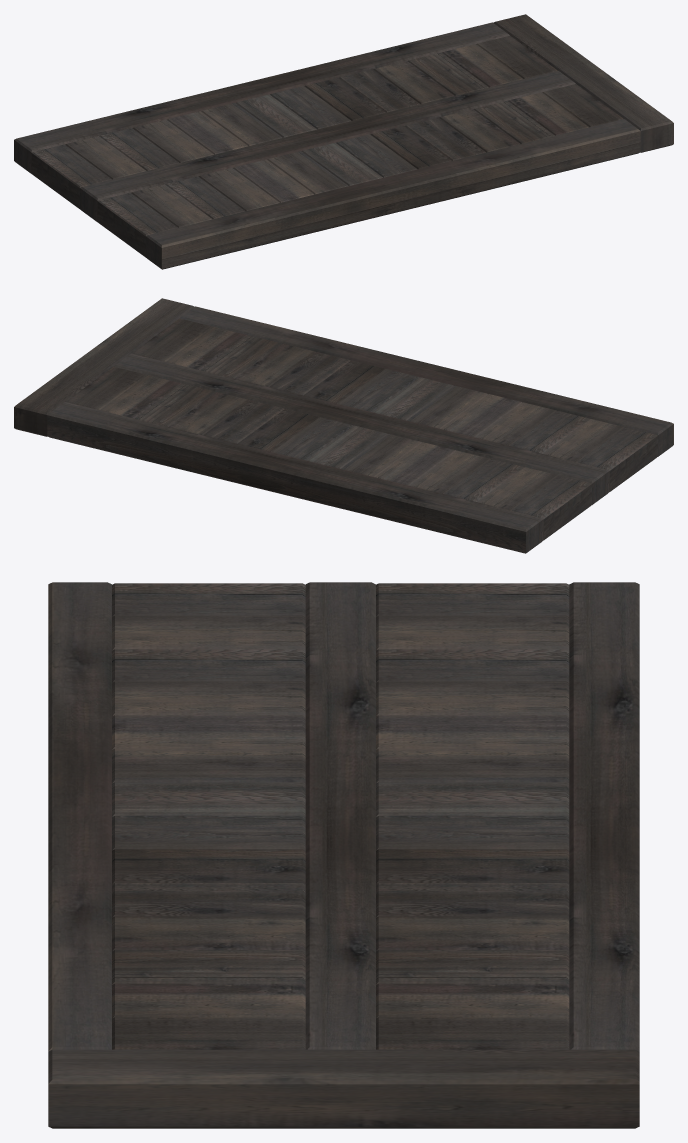
Rendered from SM_Unhyun_Noan_W_Haenggak_Maru_A001.fbx.
3 views of the same model, one above another, from view 1: azimuth 30°, elevation 25°; view 2: azimuth 150°, elevation 25°; view 3: azimuth 270°, elevation 25° (orthographic). The views are drawn at different scales.
Parts seen in each view (by area): view 1: SM_Unhyun_Noan_W_Haenggak_Maru_A001; view 2: SM_Unhyun_Noan_W_Haenggak_Maru_A001; view 3: SM_Unhyun_Noan_W_Haenggak_Maru_A001.
Part boxes in pixels (x1=…): SM_Unhyun_Noan_W_Haenggak_Maru_A001: x1=14, y1=14, x2=673, y2=269; SM_Unhyun_Noan_W_Haenggak_Maru_A001: x1=14, y1=298, x2=673, y2=553; SM_Unhyun_Noan_W_Haenggak_Maru_A001: x1=48, y1=582, x2=639, y2=1128.
Bounding box in the file's own units: 261 × 11.89 × 131.
